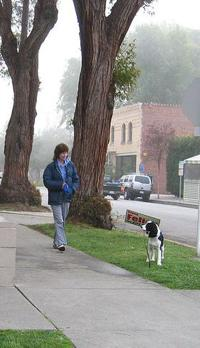person: (43, 144, 80, 254)
